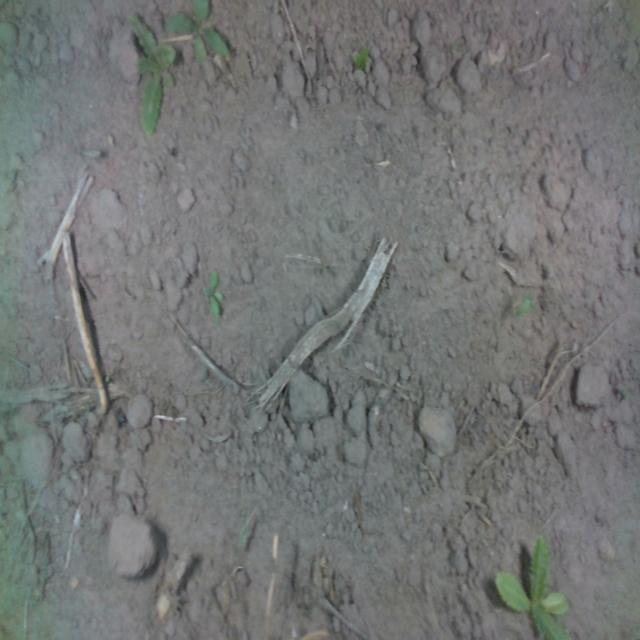weed: (200, 268, 224, 316)
